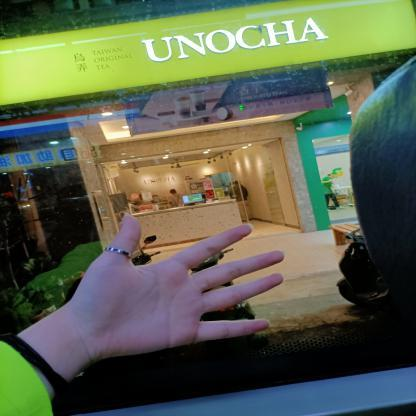bare_hand: (51, 203, 296, 360)
